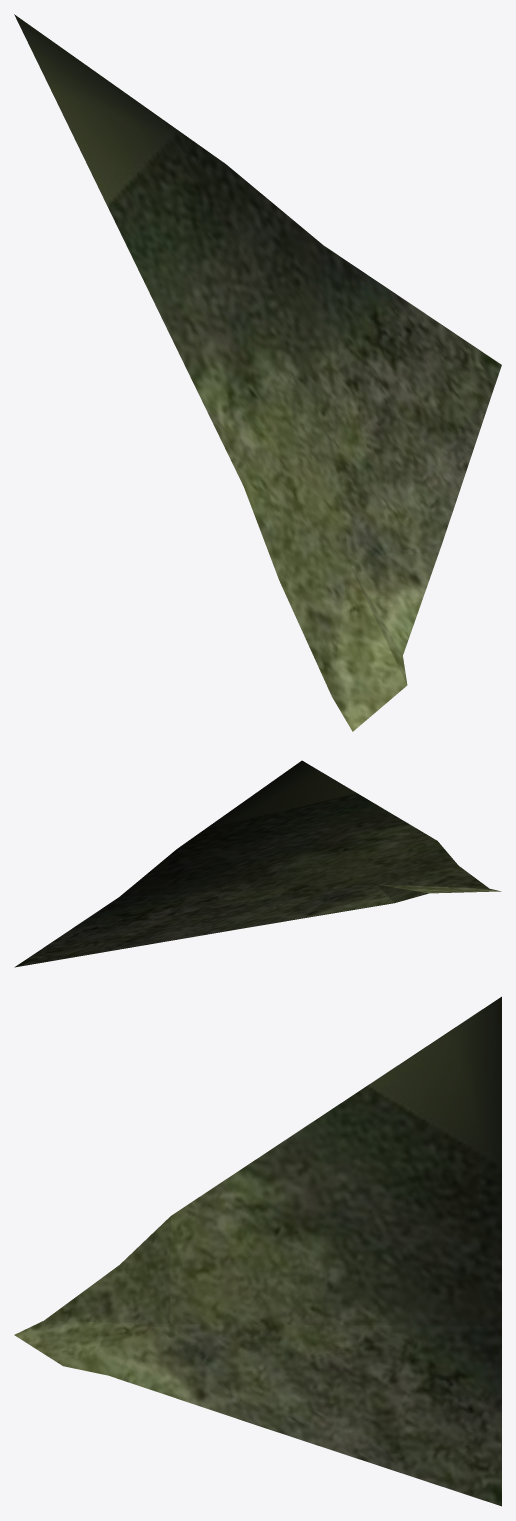
3 renders of one model, top to bottom at view 1: azimuth 30°, elevation 25°; view 2: azimuth 150°, elevation 25°; view 3: azimuth 270°, elevation 25°, orthographic. The views are drawn at different scales.
Bounding box in the file's own units: 4.58 × 4.22 × 5.51.
2 materials, 2 textured.
